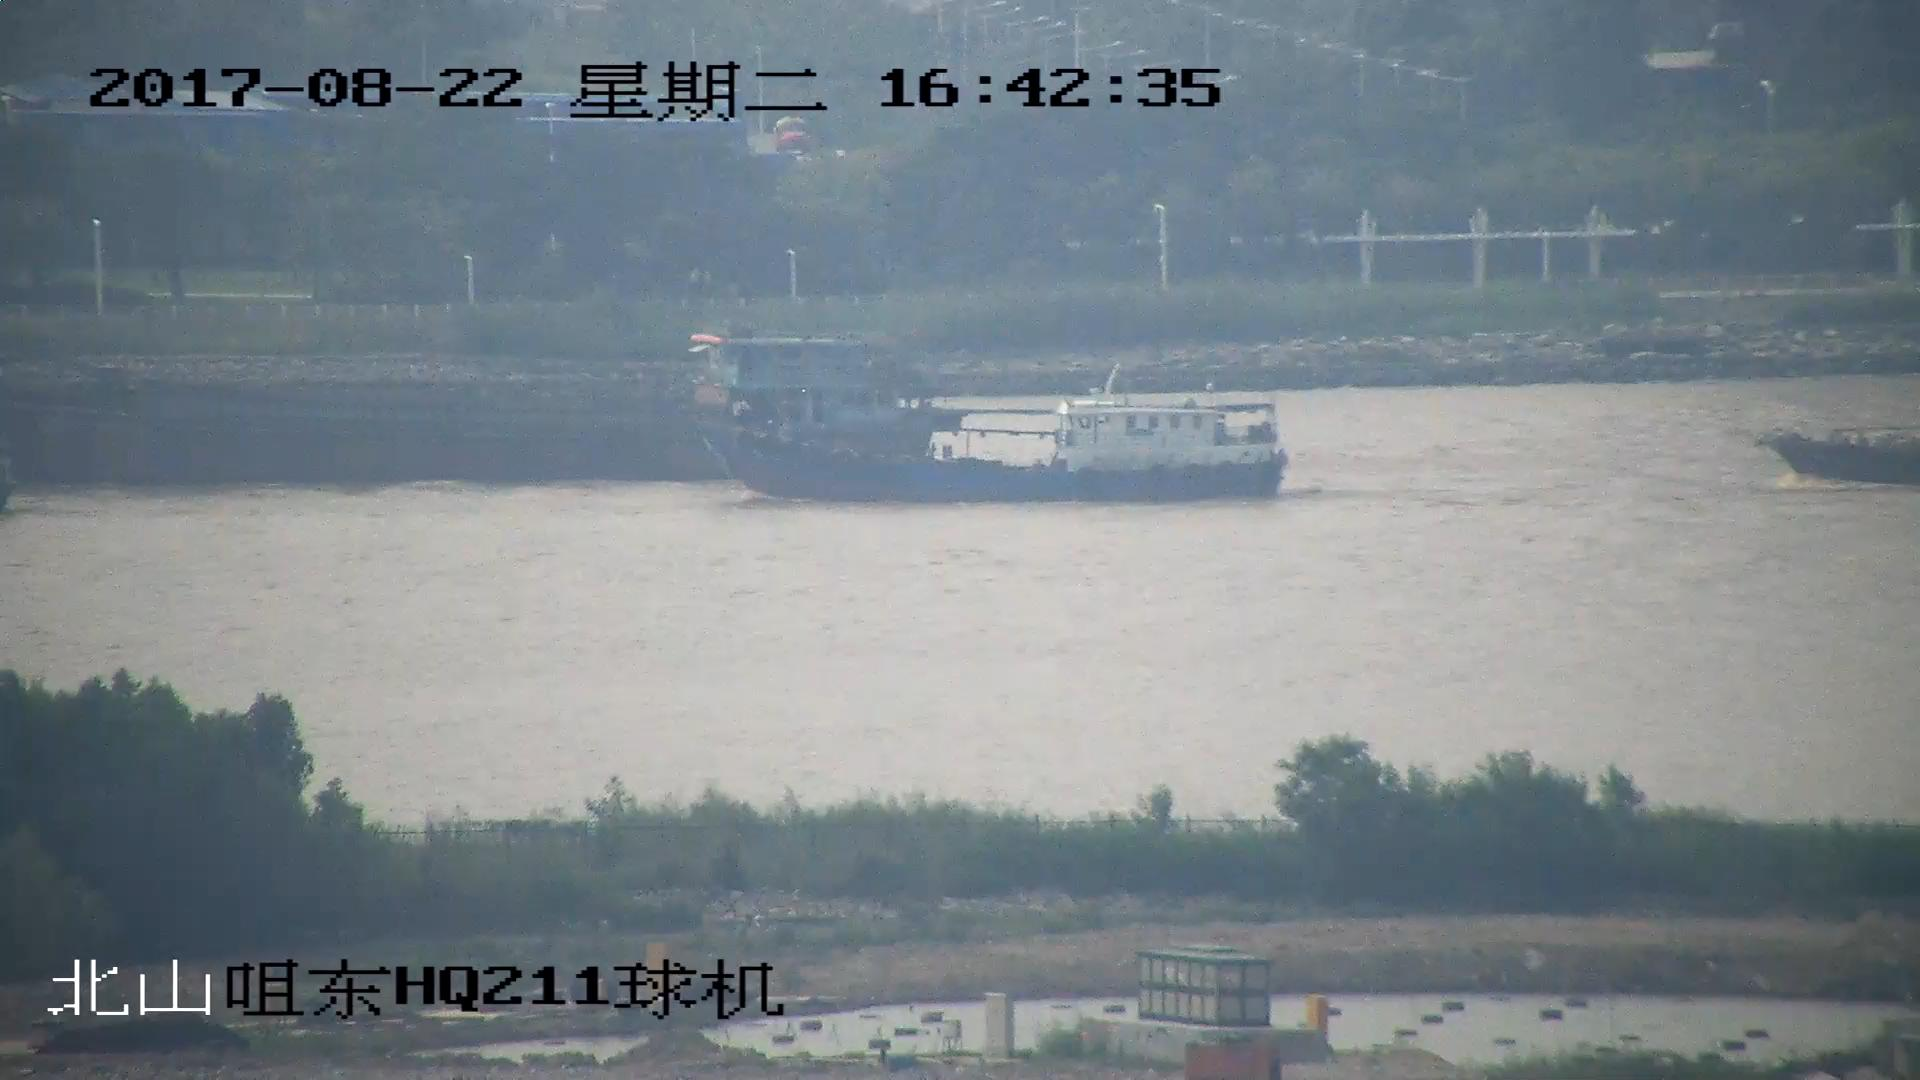bulk cargo carrier: (1, 335, 953, 491)
fishing boat: (701, 388, 1285, 507), (1761, 412, 1920, 480)
